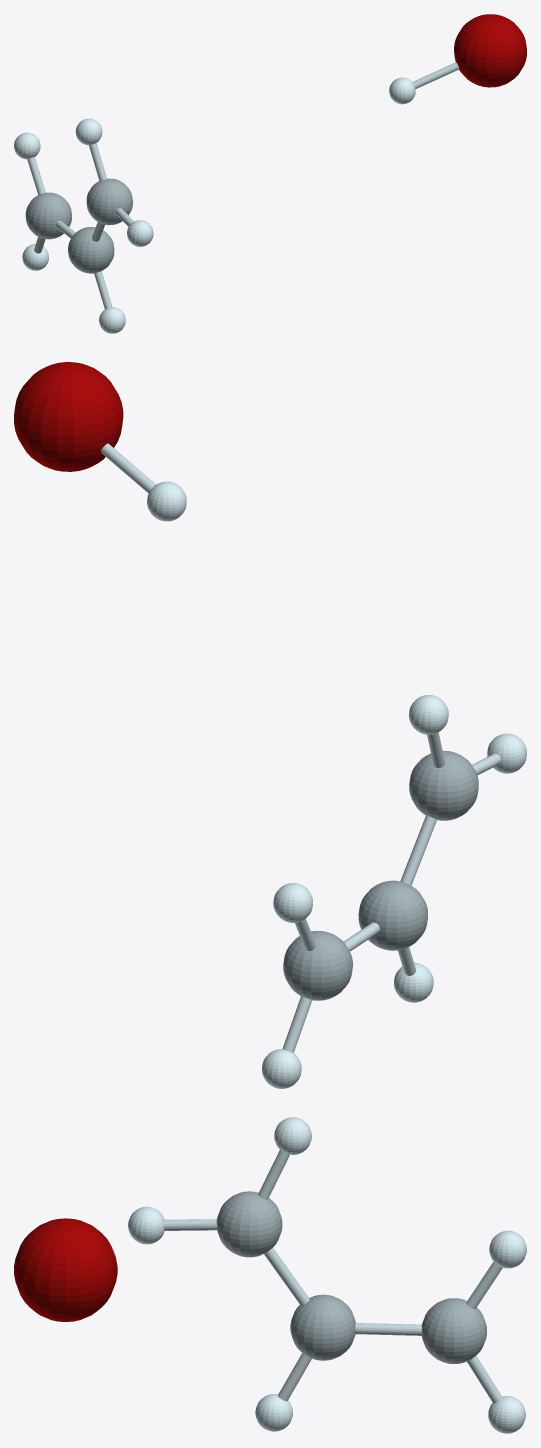
Rendered from irc_step_052.glb.
3 views of the same model, one above another, from view 1: azimuth 30°, elevation 25°; view 2: azimuth 150°, elevation 25°; view 3: azimuth 270°, elevation 25° (orthographic). The views are drawn at different scales.
Visible parts, largest first — view 1: Renderer Node; view 2: Renderer Node; view 3: Renderer Node.
Part boxes in pixels (x1=…): Renderer Node: x1=14, y1=14, x2=526, y2=333; Renderer Node: x1=14, y1=362, x2=526, y2=1088; Renderer Node: x1=14, y1=1117, x2=526, y2=1433.
Bounding box in the file's own units: 6.35 × 4.86 × 5.43.
